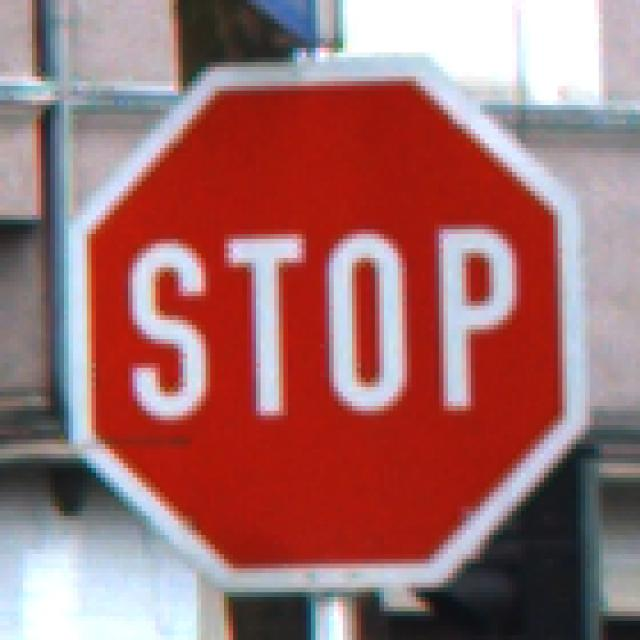STOP: (61, 54, 586, 589)
